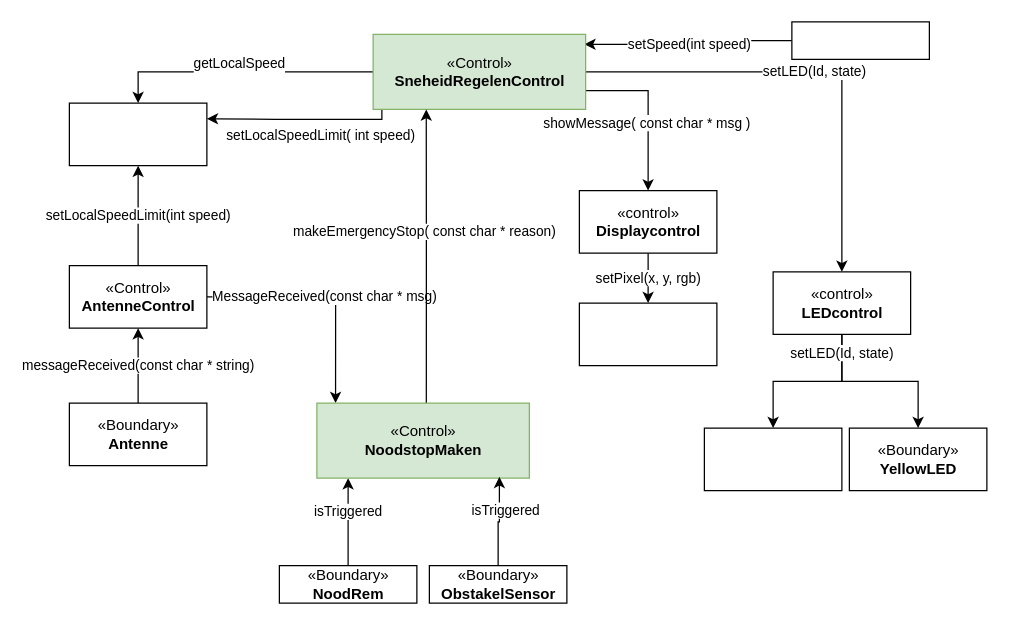
Some shapes in this 1009 by 625 pixel diagram are drawn without their labels. Here are the shapes that lost their labels. From the top down, the centre of each, then its label:
the point at 860,40: «Boundary» Schuif
the point at 137,134: «Entity» LocalSpeedLimits
the point at 647,334: «Boundary» Display
the point at 772,459: «Boundary» RedLED
